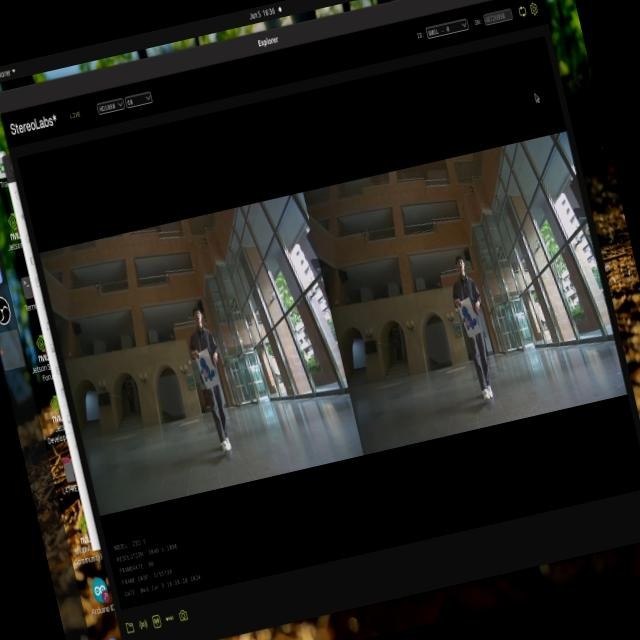blue: (192, 350, 220, 392), (457, 300, 481, 339)
